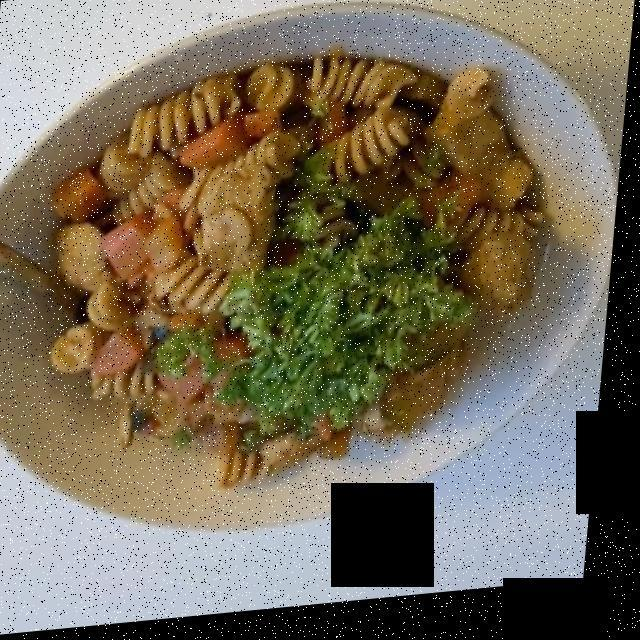carrot: (60, 94, 353, 441)
parsley: (174, 169, 456, 422)
pasta: (62, 64, 550, 483)
